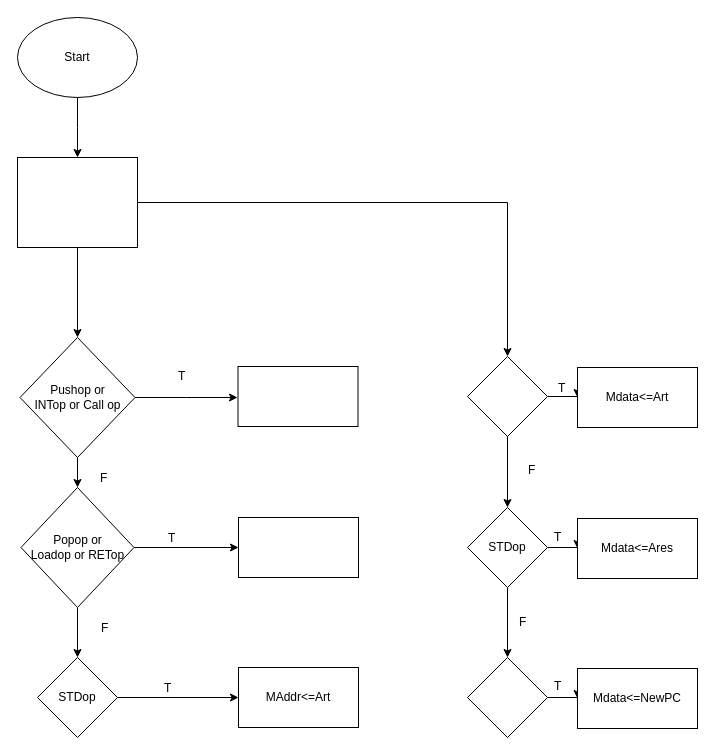
Image size: 715x755. Some labels were removed from this diagram. Here are the shapes that lost their labels. From the top down, the box of each, then its label:
(16, 156, 138, 248): MRqst <= Pushop or Popop or Loadop or STDop or Callop or RETop or INTop or LDMop
(237, 366, 358, 426): MAddr<= SP
(466, 356, 548, 436): Pushop
(238, 516, 358, 578): MAddr<=Ares
(466, 656, 548, 738): Callop or INTop
